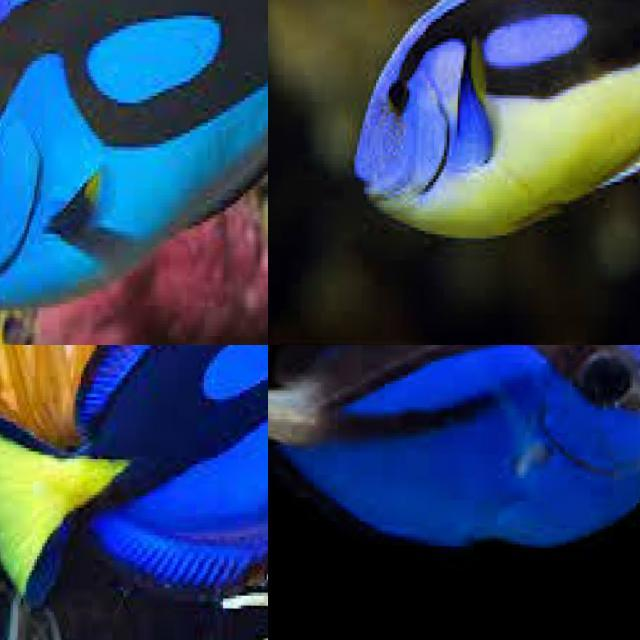BlueTang: (0, 0, 263, 304), (3, 345, 268, 612), (287, 345, 640, 542), (357, 0, 640, 231)
